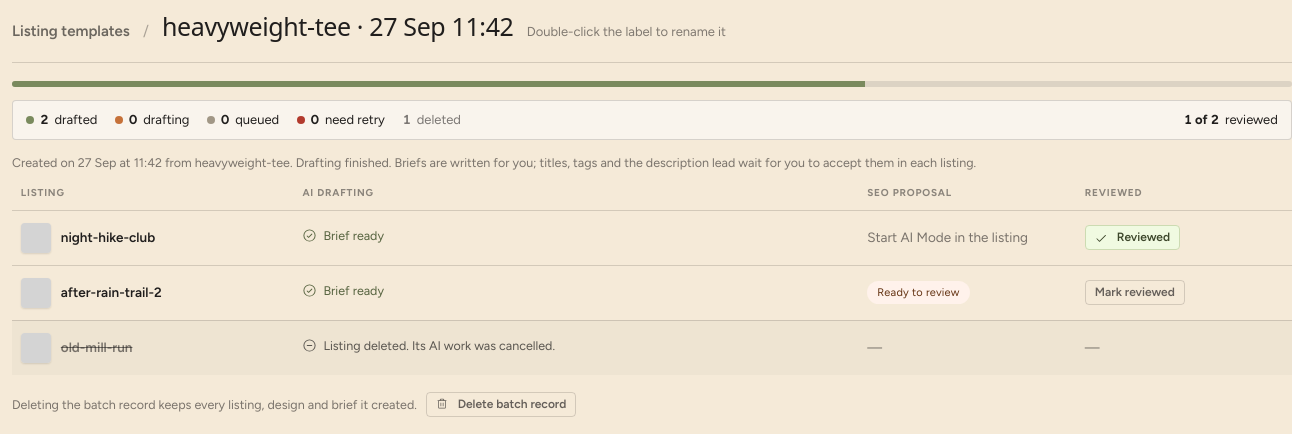
it: BatchSummaryPage › marks a row reviewed and back, and counts the reviewed listings
This screenshot has width=1292, height=434.
Click the button "Mark reviewed": coordinates (1135, 292) [1085,280,1185,305]
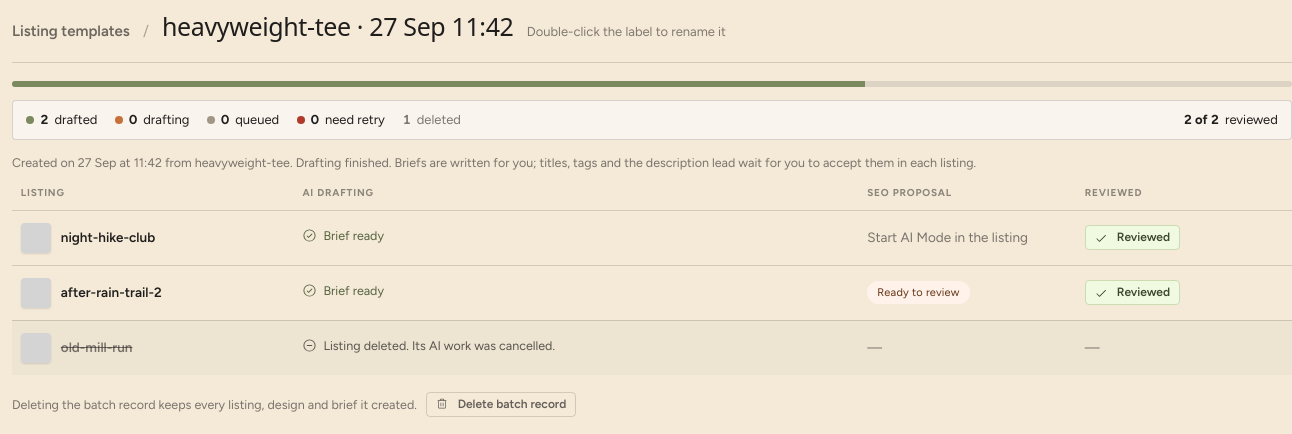
Check: the element with class "bc-counts" shows "2 of 2 reviewed", box [12,100,1291,140]
Click the button "Reviewed" in the row of "after-rain-trail-2": coordinates (1132, 292) [1085,280,1180,305]
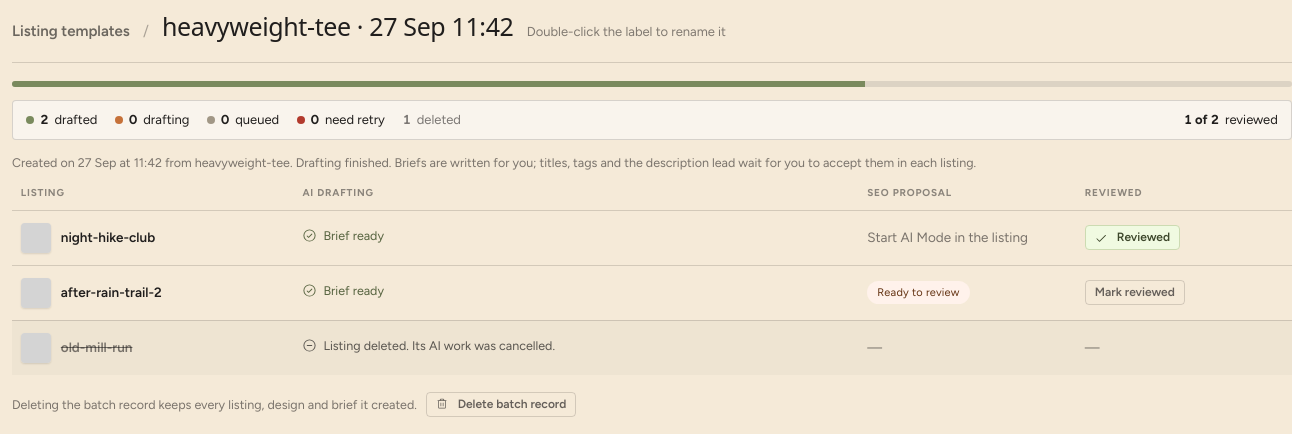
Check: the element with class "bc-counts" shows "1 of 2 reviewed", box [12,100,1291,140]
